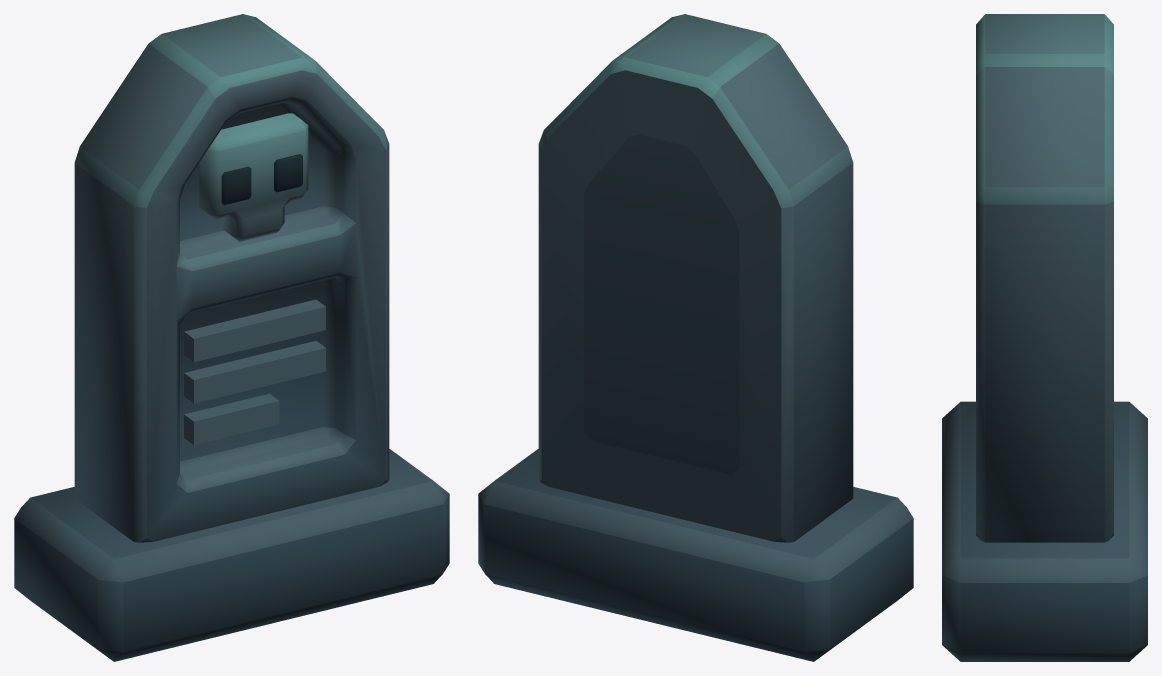
The model's file is grave_stone_3.fbx.
3 renders of one model, left to right at view 1: azimuth 30°, elevation 25°; view 2: azimuth 150°, elevation 25°; view 3: azimuth 270°, elevation 25°, orthographic.
Visible parts, largest first — view 1: grave_stone_3; view 2: grave_stone_3; view 3: grave_stone_3.
Boxes of the visible parts, bbox=[...] form: grave_stone_3: bbox=[14, 14, 449, 661]; grave_stone_3: bbox=[478, 14, 913, 661]; grave_stone_3: bbox=[942, 14, 1147, 661].
Size of the model in its own units: 132 by 195 by 66.3.
